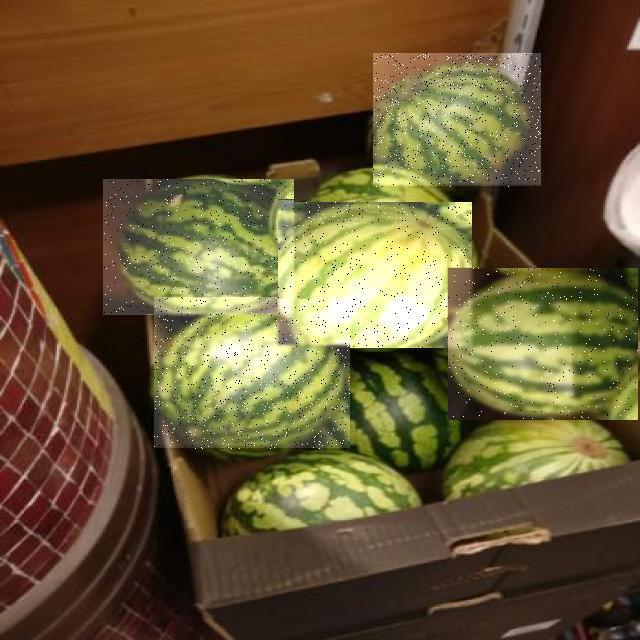Watermelon: (154, 300, 350, 450), (449, 268, 639, 420), (278, 202, 472, 348), (103, 180, 294, 318), (373, 54, 541, 188)
